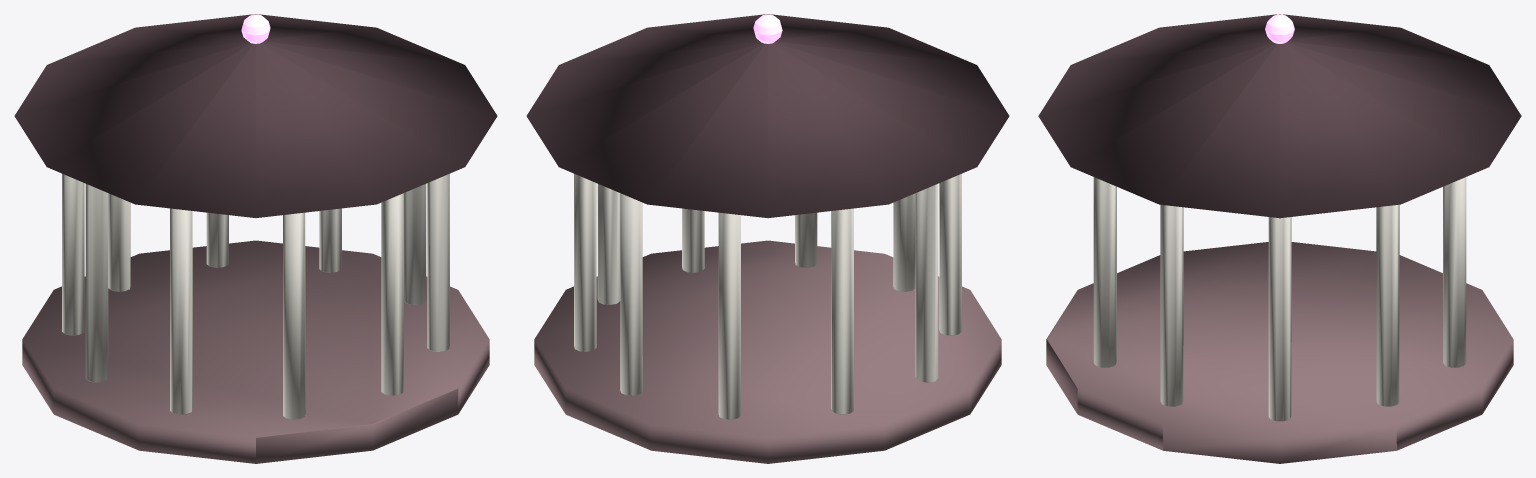
File: SM_Neroberg_Monopteros_LOD2.fbx
3 renders of one model, left to right at view 1: azimuth 30°, elevation 25°; view 2: azimuth 150°, elevation 25°; view 3: azimuth 270°, elevation 25°, orthographic.
Parts seen in each view (by area): view 1: SM_Neroberg_Monopteros_LOD2; view 2: SM_Neroberg_Monopteros_LOD2; view 3: SM_Neroberg_Monopteros_LOD2.
Part boxes in pixels (bbox=[...]): SM_Neroberg_Monopteros_LOD2: bbox=[14, 14, 497, 463]; SM_Neroberg_Monopteros_LOD2: bbox=[526, 14, 1009, 463]; SM_Neroberg_Monopteros_LOD2: bbox=[1038, 14, 1521, 463].
Bounding box in the file's own units: 5.79 × 4.62 × 5.79.
